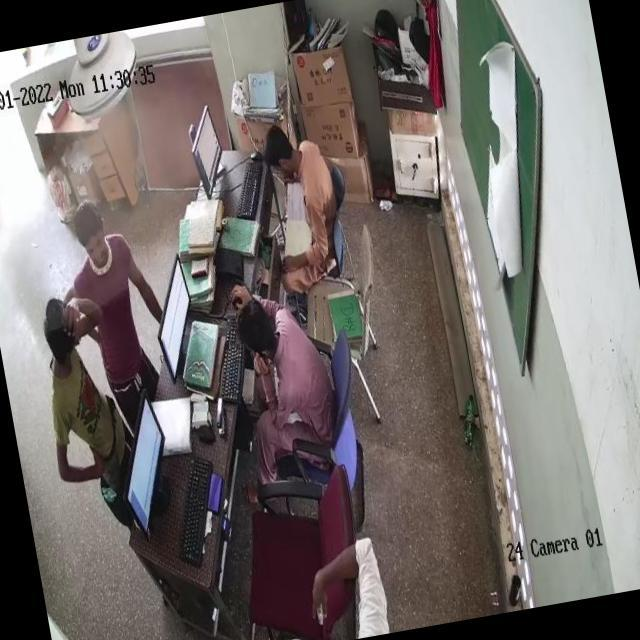person: (70, 204, 158, 409), (225, 277, 326, 443), (38, 304, 134, 478), (262, 122, 336, 254)
